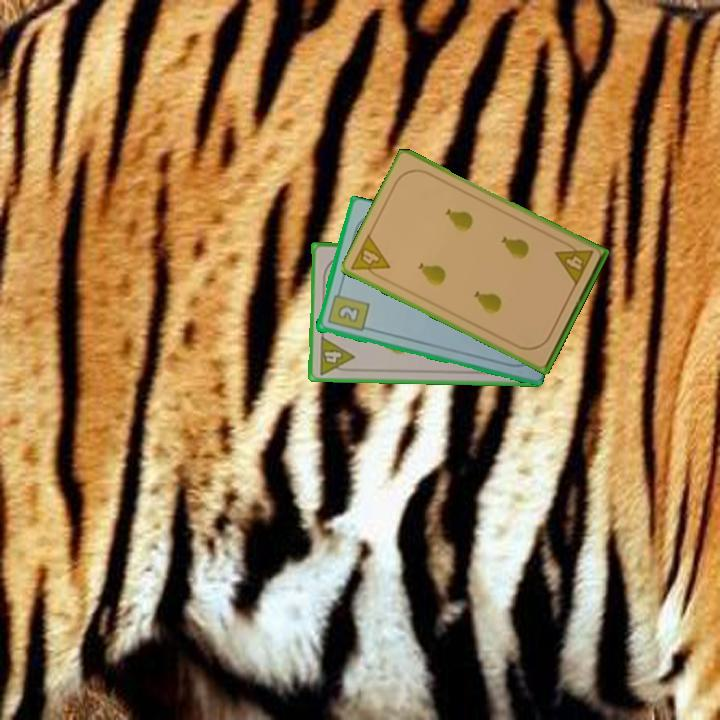2b: (324, 286, 371, 334)
4p: (348, 231, 393, 284), (552, 237, 596, 288), (315, 333, 357, 377)
